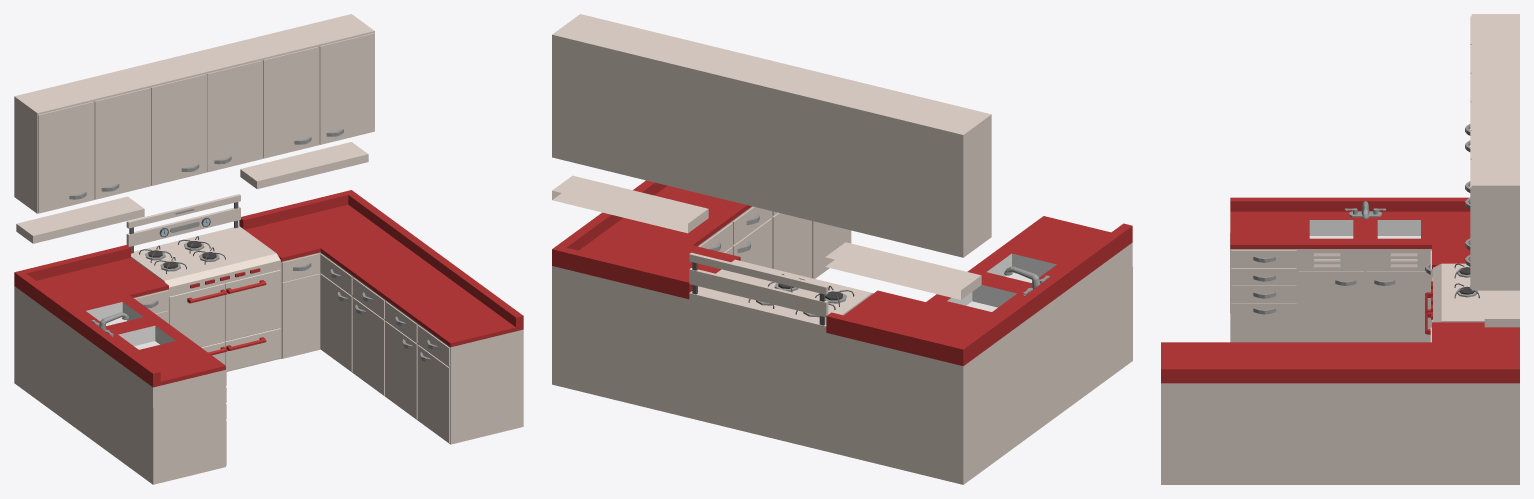
The model's file is Kitchen_Set.fbx.
The picture shows the model from 3 angles, left to right: view 1: azimuth 30°, elevation 25°; view 2: azimuth 150°, elevation 25°; view 3: azimuth 270°, elevation 25°; orthographic projection. The views are drawn at different scales.
Parts seen in each view (by area): view 1: Kitchen_Set; view 2: Kitchen_Set; view 3: Kitchen_Set.
Part boxes in pixels (box(x1,y1,x2,y2)): Kitchen_Set: box(14, 14, 523, 484); Kitchen_Set: box(552, 14, 1132, 484); Kitchen_Set: box(1161, 14, 1519, 484).
Size of the model in its own units: 336 by 297 by 273.
